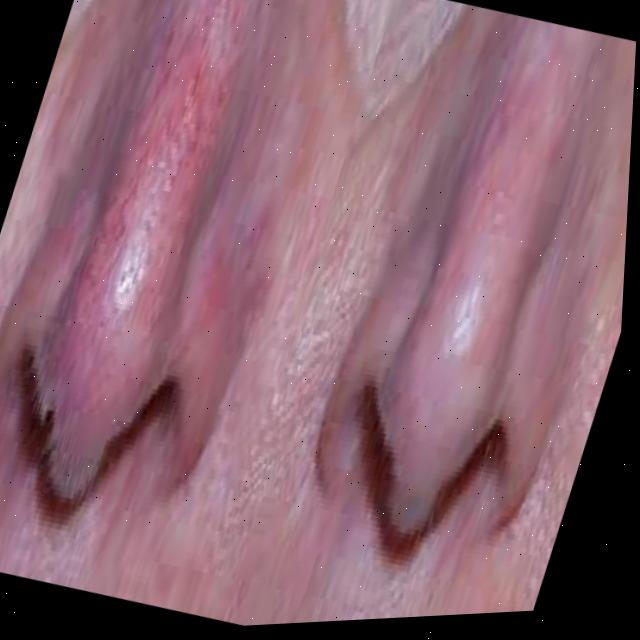Rosacea: (51, 0, 273, 354)
